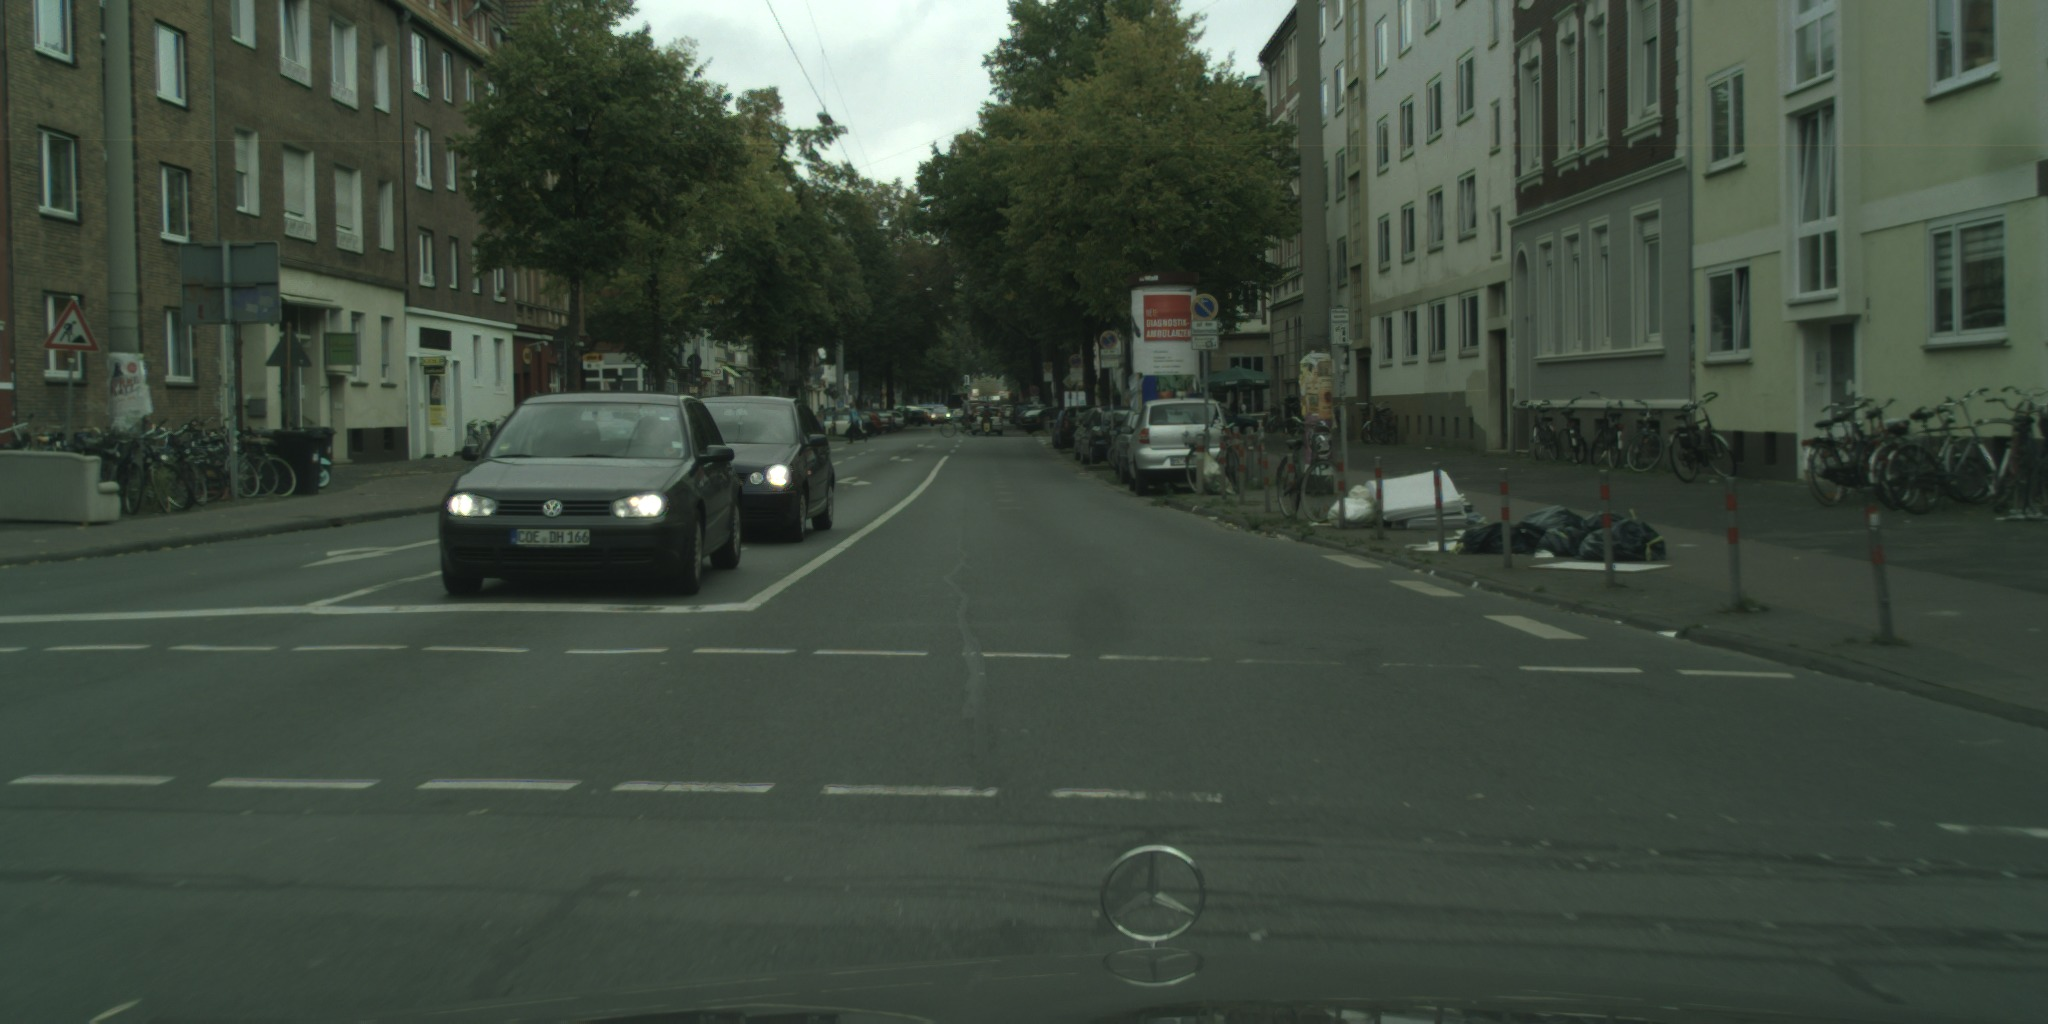bicycle: (1666, 389, 1737, 484), (1278, 423, 1344, 524), (1185, 425, 1245, 495), (1581, 390, 1626, 473), (1624, 393, 1665, 472), (1551, 393, 1588, 465), (1519, 398, 1559, 463), (941, 412, 982, 439)
car: (438, 391, 745, 597), (689, 394, 835, 543), (1123, 396, 1236, 497), (1072, 402, 1140, 465), (1107, 407, 1158, 485), (1047, 405, 1098, 456), (1210, 403, 1259, 436), (815, 406, 864, 436), (1022, 405, 1069, 435), (843, 408, 885, 437), (969, 405, 1003, 438), (890, 405, 932, 428), (961, 401, 998, 429), (1008, 404, 1045, 426), (914, 403, 946, 424), (929, 404, 953, 426)
motorcycle: (1263, 401, 1284, 432), (984, 418, 993, 437)
person: (845, 402, 869, 445), (814, 404, 827, 441)
rider: (959, 392, 977, 432), (981, 405, 991, 422)
